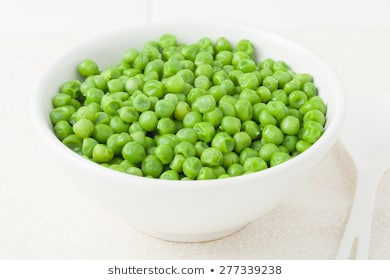boiled peas: (83, 56, 277, 161)
